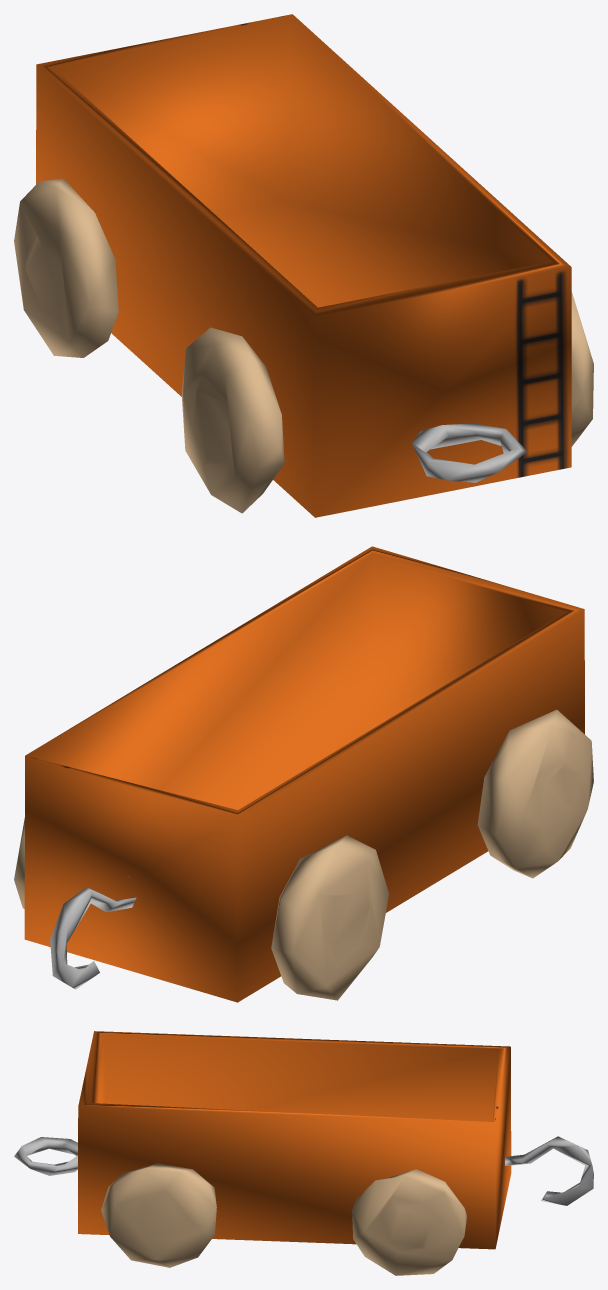
Rendered from orange_LOD1.fbx.
The picture shows the model from 3 angles, top to bottom: view 1: azimuth 30°, elevation 25°; view 2: azimuth 150°, elevation 25°; view 3: azimuth 270°, elevation 25°; orthographic projection. The views are drawn at different scales.
Visible parts, largest first — view 1: vagone5; view 2: vagone5; view 3: vagone5.
Boxes of the visible parts, left/top/right/bottom form: vagone5: left=14, top=14, right=593, bottom=517; vagone5: left=14, top=546, right=593, bottom=1002; vagone5: left=14, top=1031, right=593, bottom=1275.
Bounding box in the file's own units: 306 × 181 × 641.
Materials: 3 (1 with a texture image).
